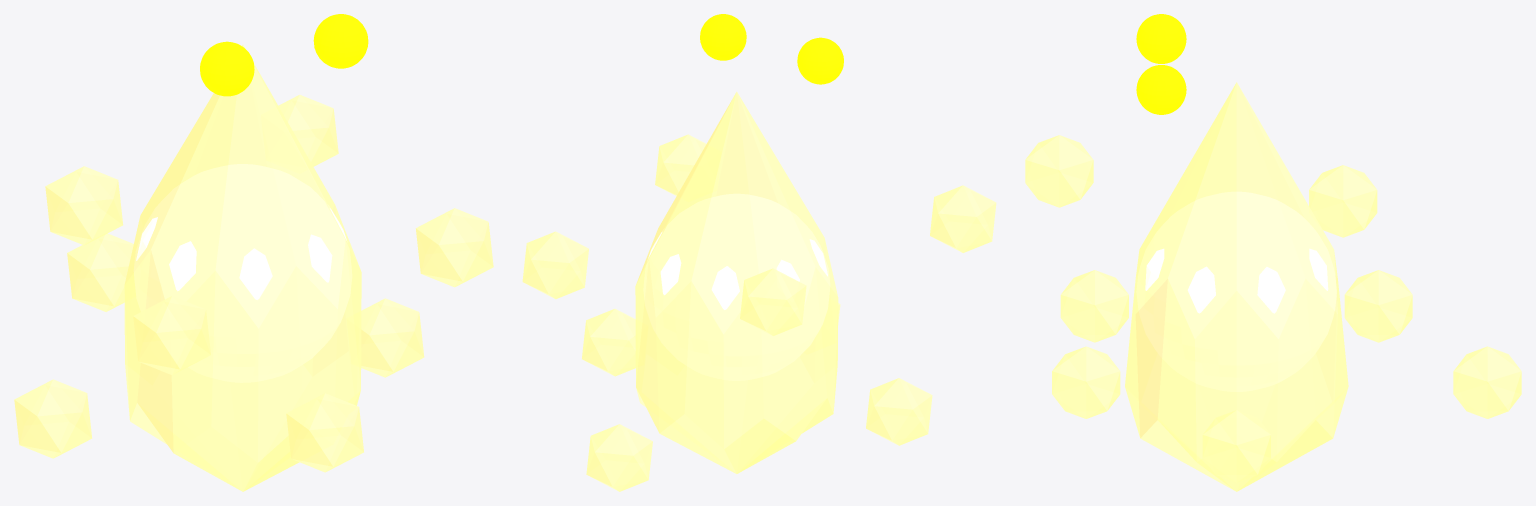
The model's file is flame_wraith.fbx.
3 views of the same model, side by side, from view 1: azimuth 30°, elevation 25°; view 2: azimuth 150°, elevation 25°; view 3: azimuth 270°, elevation 25° (orthographic). The views are drawn at different scales.
Parts seen in each view (by area): view 1: WraithBody, WraithCore, WraithParticle_7, WraithParticle_3, WraithParticle_6, WraithParticle_4, WraithParticle_5, WraithParticle_0, WraithParticle_2, WraithParticle_1, WraithEye_R, WraithEye_L; view 2: WraithBody, WraithCore, WraithParticle_2, WraithParticle_1, WraithParticle_5, WraithParticle_3, WraithParticle_4, WraithParticle_0, WraithParticle_7, WraithEye_L, WraithEye_R; view 3: WraithBody, WraithCore, WraithParticle_1, WraithParticle_2, WraithParticle_5, WraithParticle_7, WraithParticle_0, WraithParticle_6, WraithParticle_3, WraithEye_L, WraithEye_R.
Boxes of the visible parts, <box> form: WraithBody: <box>124,44,361,491</box>; WraithCore: <box>134,164,351,382</box>; WraithParticle_7: <box>415,208,493,287</box>; WraithParticle_3: <box>45,166,123,245</box>; WraithParticle_6: <box>286,393,363,472</box>; WraithParticle_4: <box>14,379,92,458</box>; WraithParticle_5: <box>133,296,210,374</box>; WraithParticle_0: <box>361,298,424,377</box>; WraithParticle_2: <box>67,233,133,311</box>; WraithParticle_1: <box>278,94,338,166</box>; WraithEye_R: <box>313,14,368,68</box>; WraithEye_L: <box>200,41,254,96</box>; WraithBody: <box>635,91,838,473</box>; WraithCore: <box>643,194,829,380</box>; WraithParticle_2: <box>586,424,652,491</box>; WraithParticle_1: <box>522,231,588,299</box>; WraithParticle_5: <box>930,185,996,252</box>; WraithParticle_3: <box>740,268,806,335</box>; WraithParticle_4: <box>866,378,932,445</box>; WraithParticle_0: <box>582,308,635,376</box>; WraithParticle_7: <box>655,134,706,195</box>; WraithEye_L: <box>797,37,843,84</box>; WraithEye_R: <box>700,14,746,60</box>; WraithBody: <box>1125,82,1348,491</box>; WraithCore: <box>1136,192,1336,391</box>; WraithParticle_1: <box>1344,270,1412,342</box>; WraithParticle_2: <box>1453,346,1521,418</box>; WraithParticle_5: <box>1025,135,1093,207</box>; WraithParticle_7: <box>1060,270,1128,342</box>; WraithParticle_0: <box>1202,410,1270,482</box>; WraithParticle_6: <box>1052,346,1120,418</box>; WraithParticle_3: <box>1309,165,1377,237</box>; WraithEye_L: <box>1136,14,1186,63</box>; WraithEye_R: <box>1136,65,1186,114</box>.
Bounding box in the file's own units: 0.8431 × 0.9897 × 0.9902.
